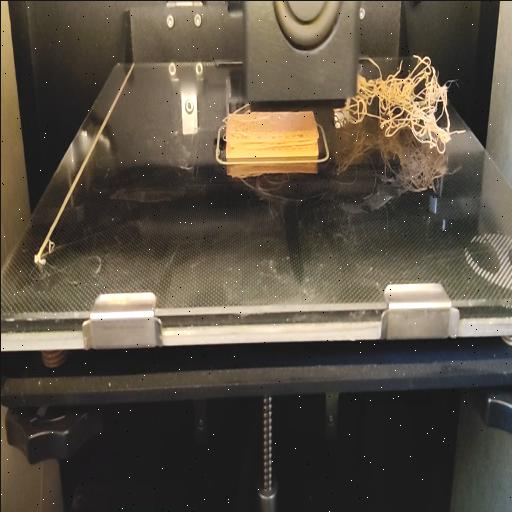spaghetti: (355, 46, 467, 156), (334, 98, 360, 124)
